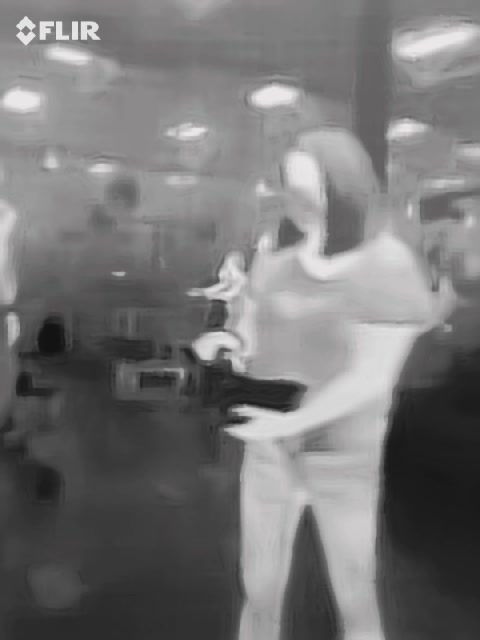head: (283, 125, 375, 245)
